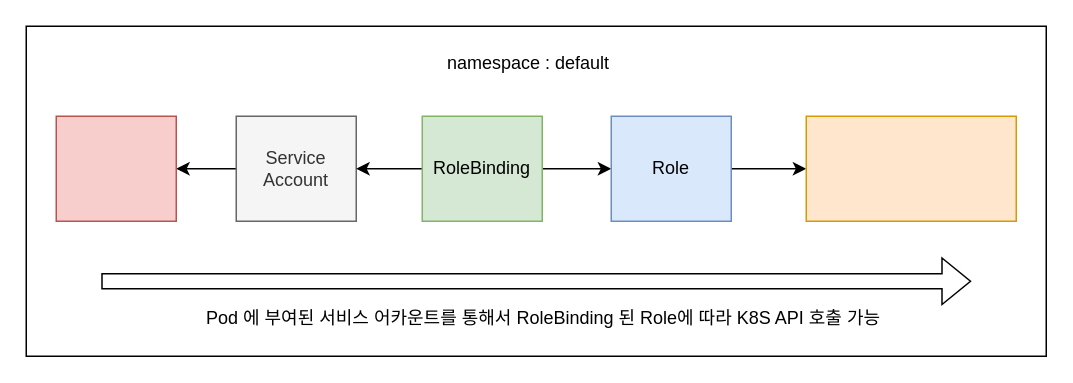
Some shapes in this 1073 by 383 pixel diagram are drawn without their labels. Each missing label, with the centre of its shape:
"K8S Cluster API" belongs at point 910,168.
"Pod" belongs at point 115,168.
